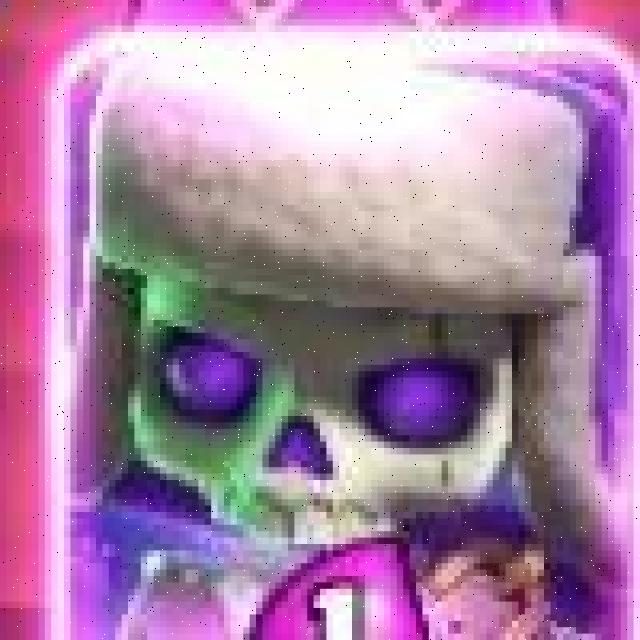Evolved_Skeletons: (46, 22, 640, 639)
